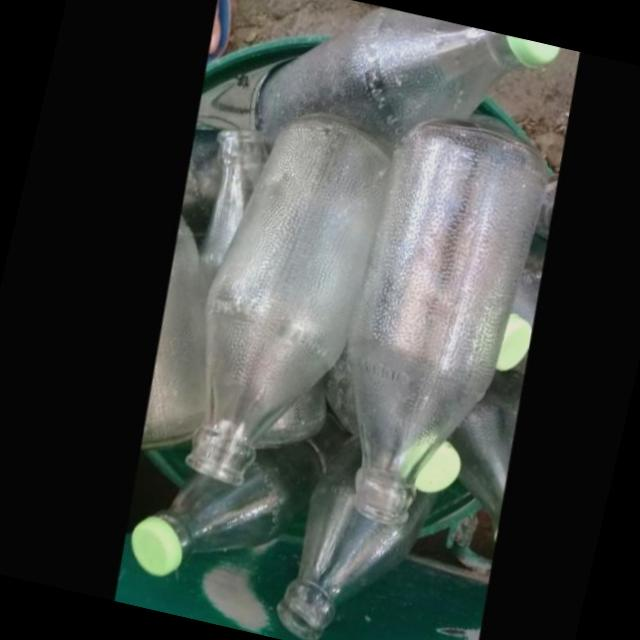chai_thuy_tinh: (343, 116, 549, 520), (179, 108, 390, 481), (254, 5, 560, 135), (268, 433, 424, 637), (123, 436, 316, 571), (134, 209, 202, 445), (441, 365, 520, 539)
